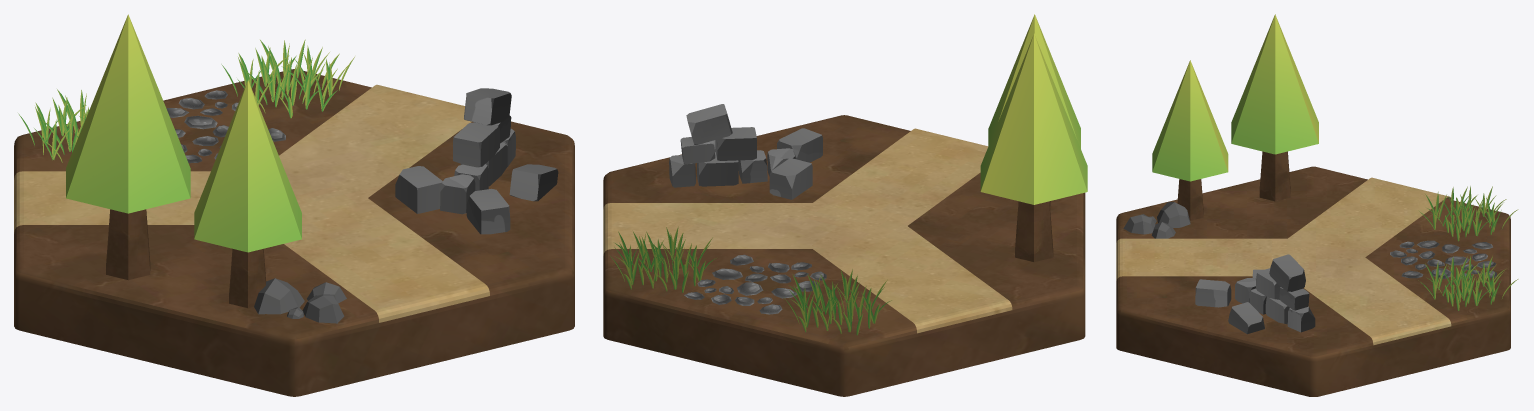
Rendered from Road_TutType6.fbx.
The picture shows the model from 3 angles, left to right: view 1: azimuth 30°, elevation 25°; view 2: azimuth 150°, elevation 25°; view 3: azimuth 270°, elevation 25°; orthographic projection. The views are drawn at different scales.
Parts seen in each view (by area): view 1: Object009; view 2: Object009; view 3: Object009.
Boxes of the visible parts, x1,y1,x2,y2 form: Object009: [14, 14, 574, 396]; Object009: [603, 14, 1087, 396]; Object009: [1116, 14, 1518, 396].
Size of the model in its own units: 99.25 by 53.53 by 88.52.
